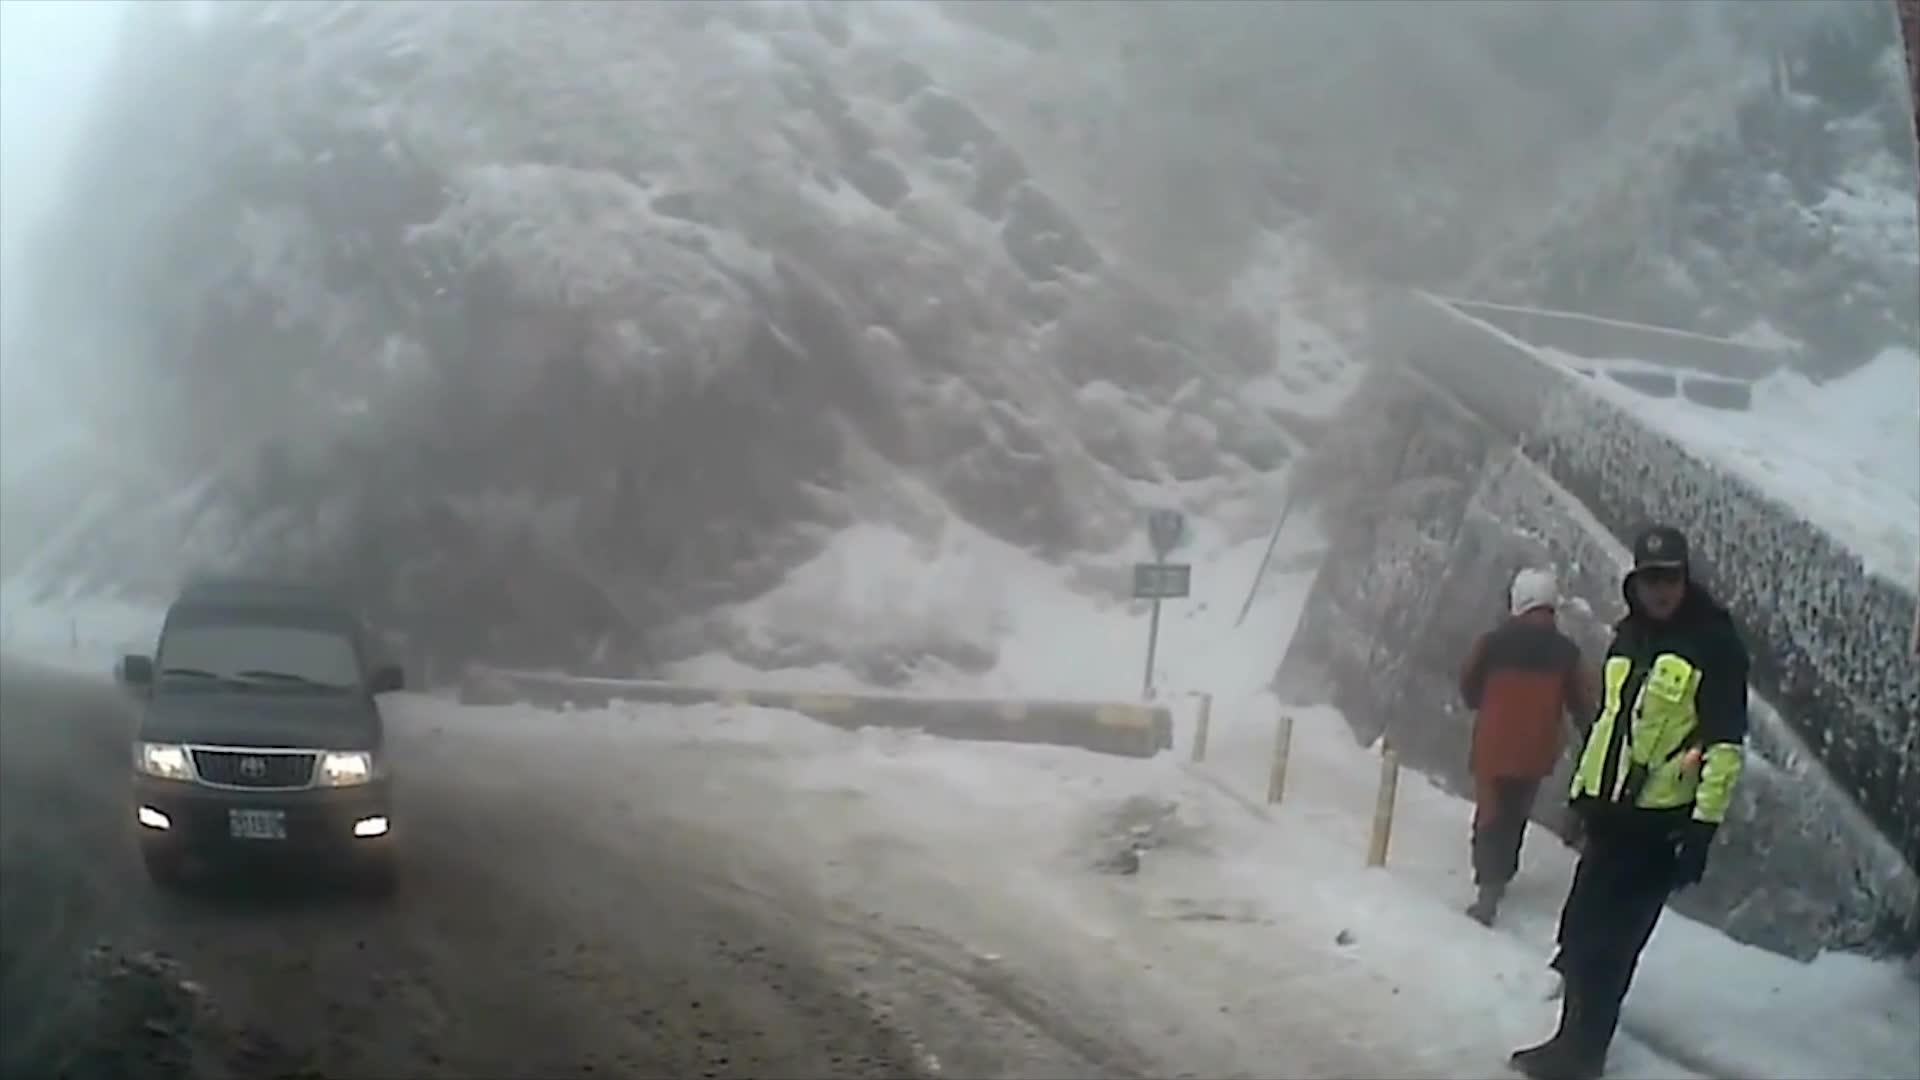pedestrian: (1522, 517, 1759, 1074), (1463, 559, 1600, 916)
vehicle: (121, 581, 405, 895)
